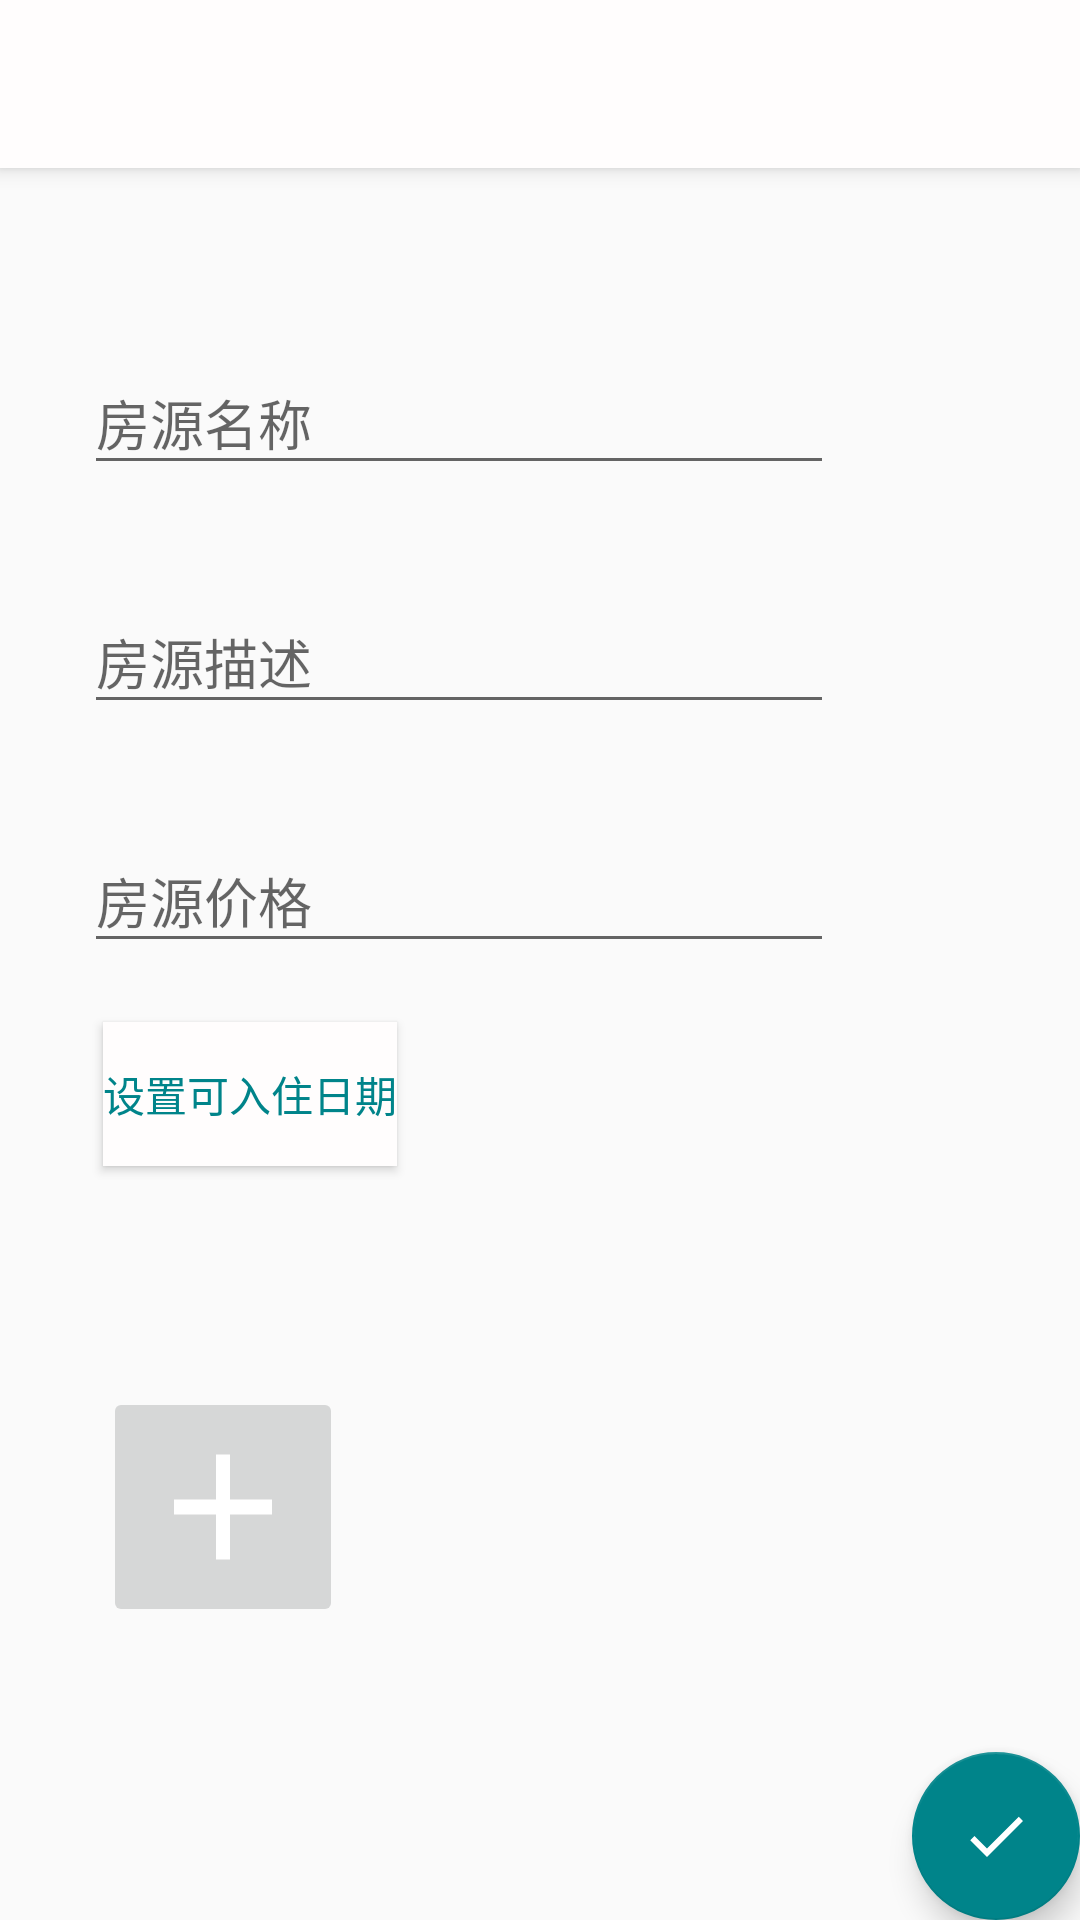

Icons on this 1080px×1920px Android screen, each with the point to tap as (x,y):
add: (223,1507)
check: (996,1836)
